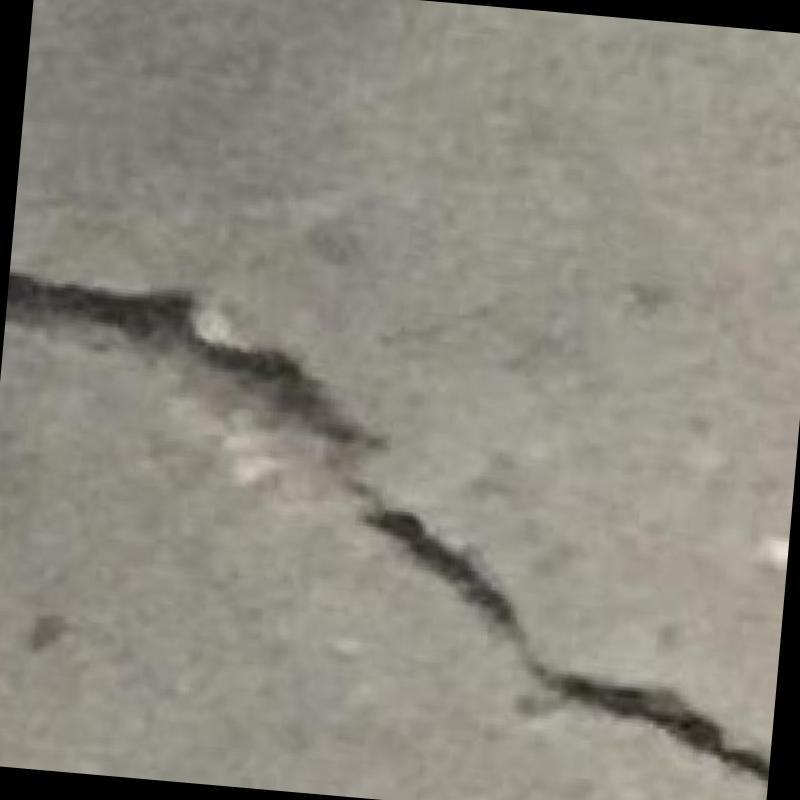pothole: (6, 270, 769, 782)
